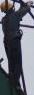boots: (0, 0, 6, 5)
gloves: (0, 0, 5, 4)
hard-hat: (0, 1, 13, 12)
